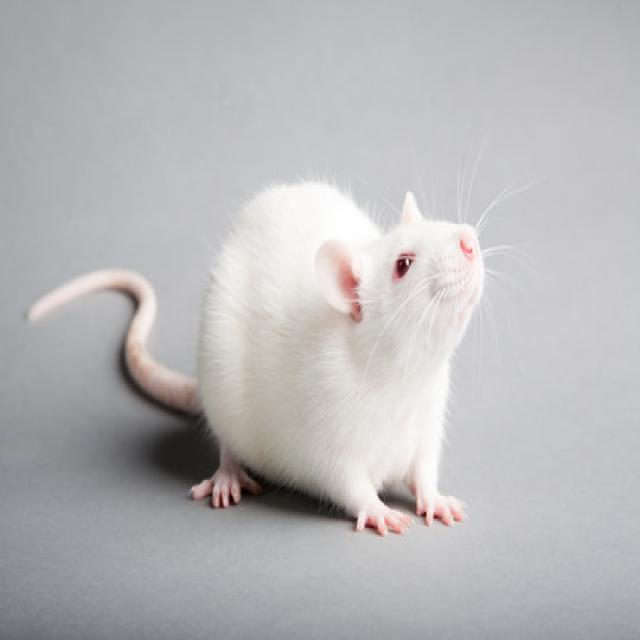rodent: (180, 160, 500, 580)
